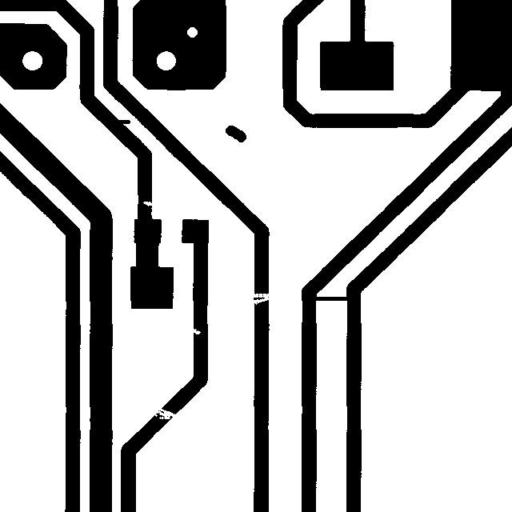copper: (218, 118, 254, 150)
mousebite: (181, 321, 208, 342), (135, 194, 162, 214)
open: (142, 400, 185, 426), (238, 286, 279, 312)
pin-hole: (179, 19, 205, 45)
short: (302, 288, 357, 308)
spur: (108, 112, 138, 131)
